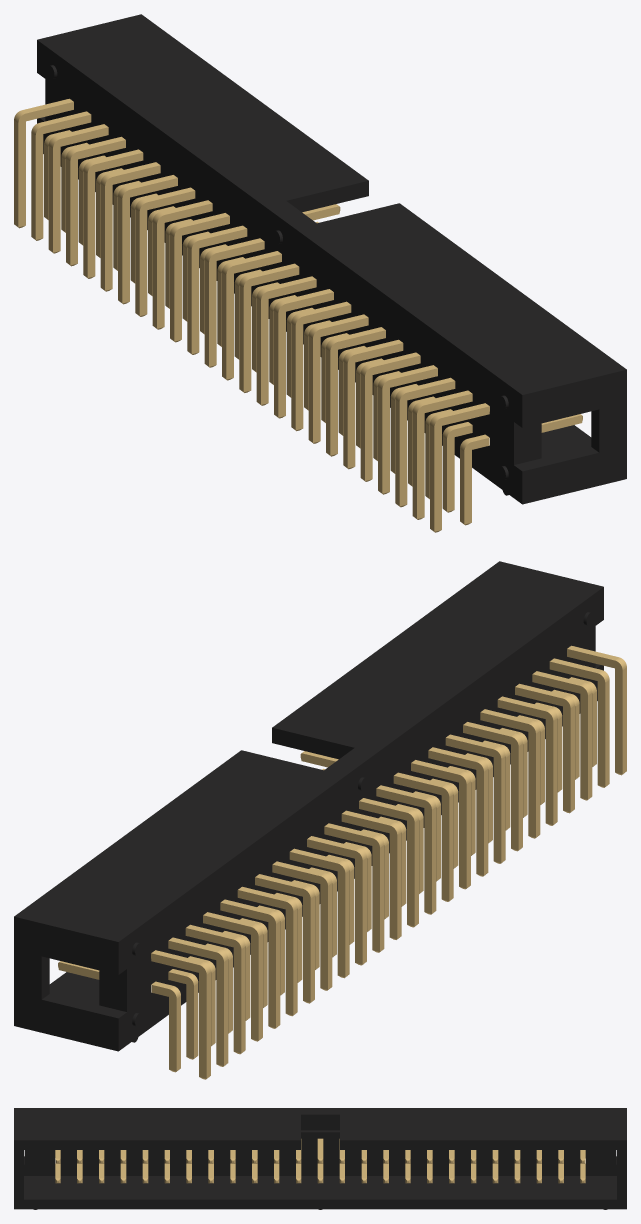
The model's file is kc-idc-header_2x25_p2.54mm_horizontal.glb.
3 views of the same model, one above another, from view 1: azimuth 30°, elevation 25°; view 2: azimuth 150°, elevation 25°; view 3: azimuth 270°, elevation 25° (orthographic). The views are drawn at different scales.
Visible parts, largest first — view 1: 0_0_0_0, 0.75_0.5_0.25_0.9; view 2: 0_0_0_0, 0.75_0.5_0.25_0.9; view 3: 0_0_0_0, 0.75_0.5_0.25_0.9.
Boxes of the visible parts, x1,y1,x2,y2 form: 0_0_0_0: [37, 14, 626, 504]; 0.75_0.5_0.25_0.9: [14, 98, 582, 532]; 0_0_0_0: [14, 561, 603, 1051]; 0.75_0.5_0.25_0.9: [58, 645, 626, 1079]; 0_0_0_0: [14, 1108, 626, 1209]; 0.75_0.5_0.25_0.9: [55, 1138, 585, 1183].
Size of the model in its own units: 1.35 by 1.21 by 7.12.
